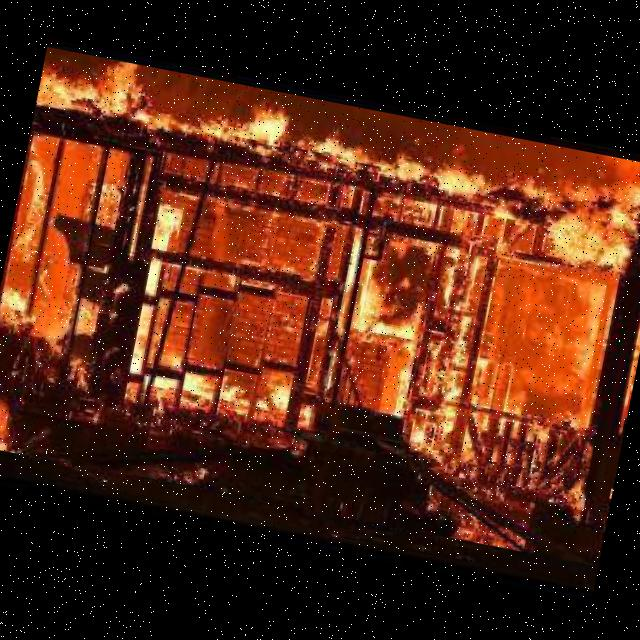fire: (0, 47, 640, 566)
